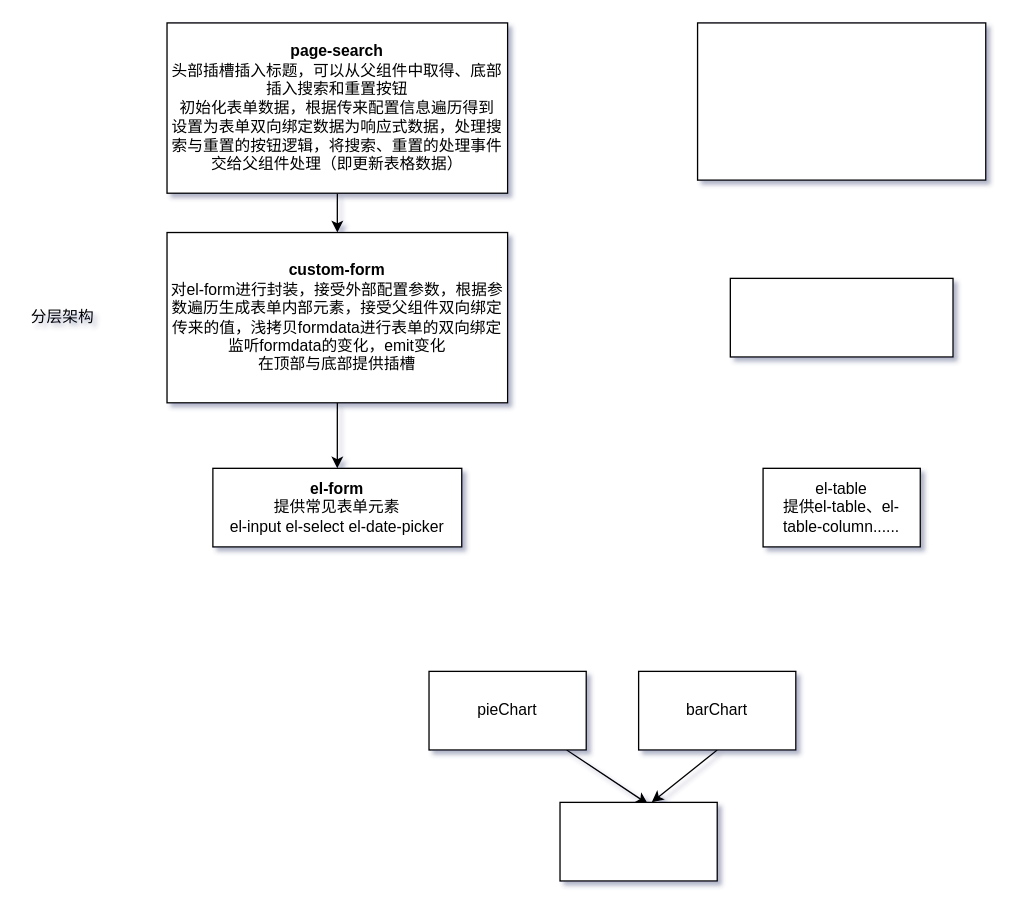
Image size: 1017x912. Some labels were removed from this diagram. The box of each missing label's shape, as (x1, y1, x2, y2) in pixels:
custom-table: (729, 277, 953, 357)
echart: (559, 801, 717, 881)
page-table 将tableConfig中所有字段传入到custom-table: (696, 22, 986, 180)
